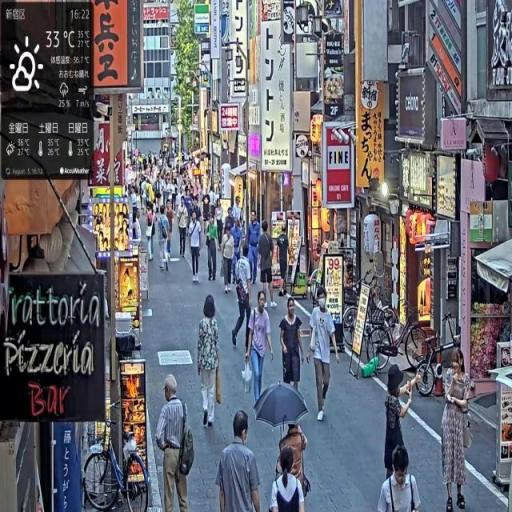person: (441, 349, 475, 512), (156, 374, 196, 512), (218, 411, 263, 511), (308, 288, 340, 427), (383, 363, 417, 484), (197, 294, 223, 431), (246, 291, 275, 409), (380, 446, 424, 512), (232, 243, 254, 354), (280, 298, 305, 392), (271, 447, 305, 512), (259, 220, 277, 313), (277, 221, 292, 302), (189, 210, 204, 283), (157, 205, 172, 275), (222, 225, 235, 296), (207, 216, 220, 283), (177, 201, 190, 260)
